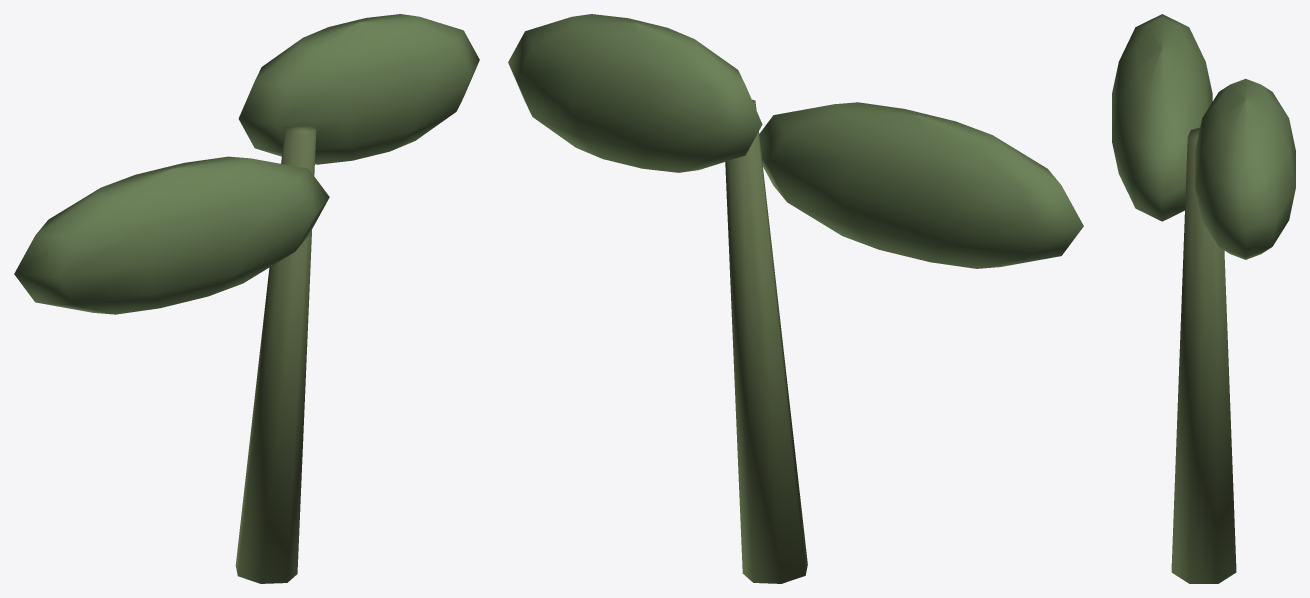
The model's file is Sprout_1.glb.
The picture shows the model from 3 angles, left to right: view 1: azimuth 30°, elevation 25°; view 2: azimuth 150°, elevation 25°; view 3: azimuth 270°, elevation 25°; orthographic projection. The views are drawn at different scales.
Parts seen in each view (by area): view 1: b612__Sprout_1__plant; view 2: b612__Sprout_1__plant; view 3: b612__Sprout_1__plant.
Part boxes in pixels (x1,y1,x2,y2): b612__Sprout_1__plant: (14,14,479,583); b612__Sprout_1__plant: (508,14,1083,583); b612__Sprout_1__plant: (1112,14,1295,583).
Bounding box in the file's own units: 0.218 × 0.21 × 0.0661.
